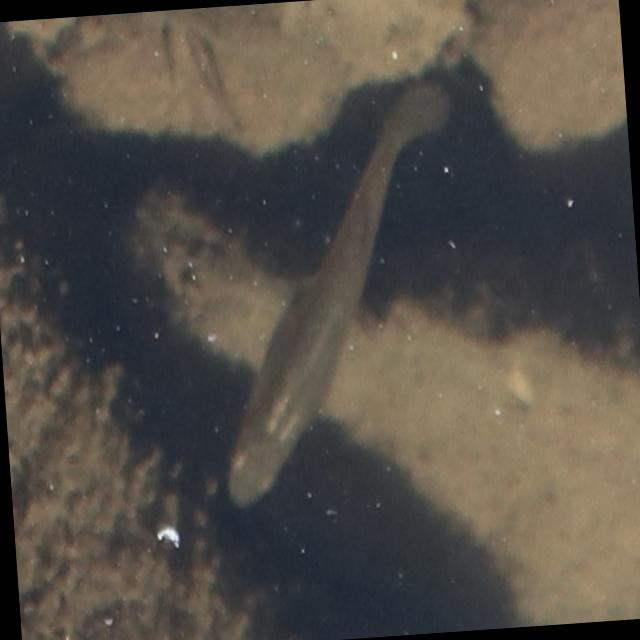Sivrisinek Baligi: (202, 71, 485, 510)
